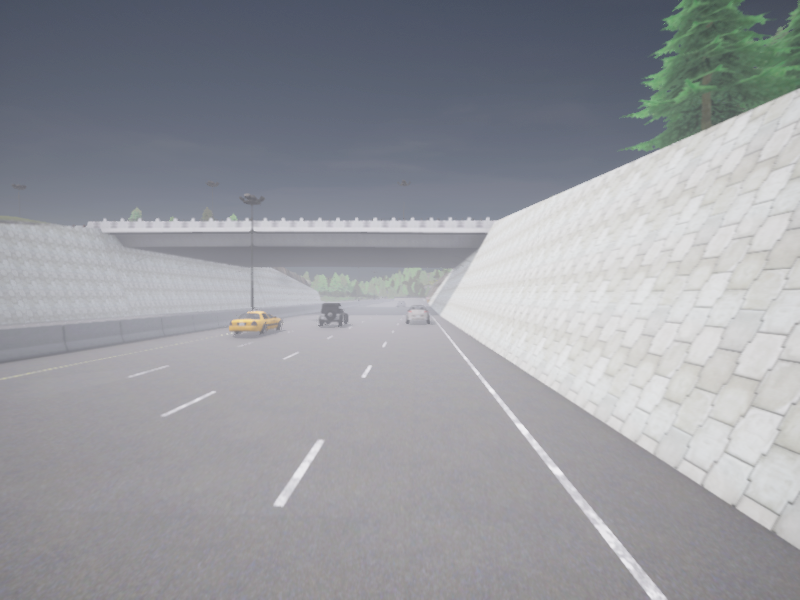vehicle: (229, 309, 282, 334), (319, 303, 347, 325), (406, 305, 429, 322), (398, 301, 405, 306)
